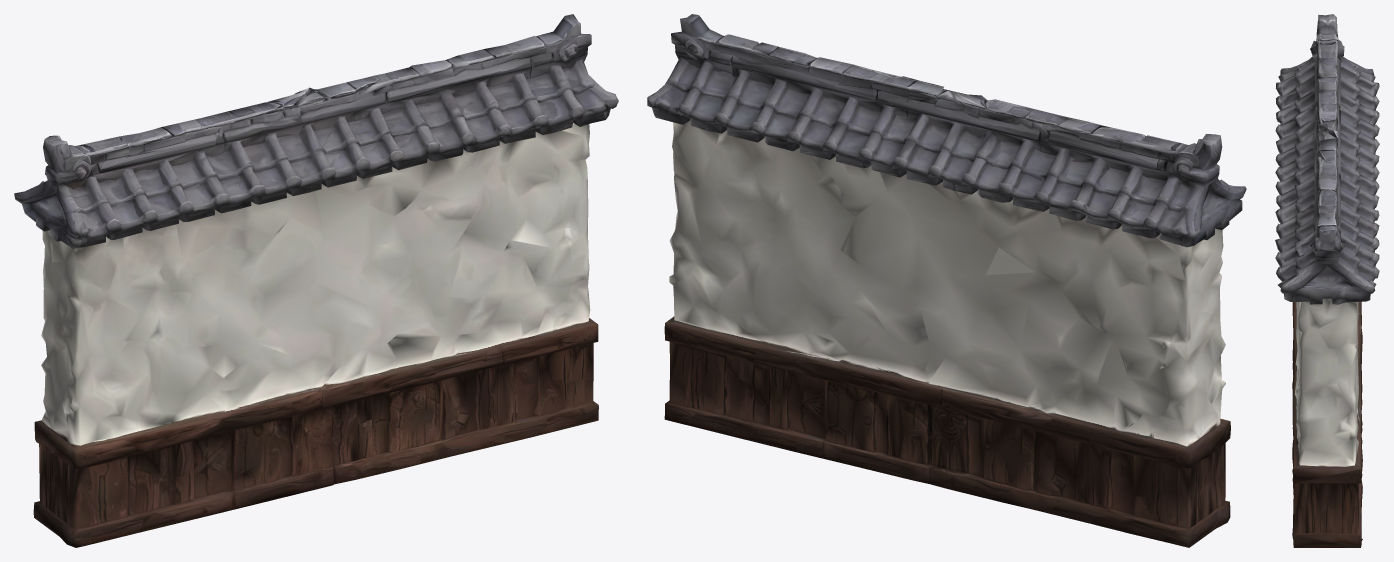
File: wal_japan.fbx
3 views of the same model, side by side, from view 1: azimuth 30°, elevation 25°; view 2: azimuth 150°, elevation 25°; view 3: azimuth 270°, elevation 25° (orthographic). The views are drawn at different scales.
Visible parts, largest first — view 1: wal_japan_LOD0; view 2: wal_japan_LOD0; view 3: wal_japan_LOD0.
Boxes of the visible parts, bbox=[...] form: wal_japan_LOD0: bbox=[14, 14, 618, 547]; wal_japan_LOD0: bbox=[647, 14, 1246, 547]; wal_japan_LOD0: bbox=[1275, 14, 1379, 547].
Size of what is drawn, in the model's own units: 0.9827 by 0.671 by 0.1982.
